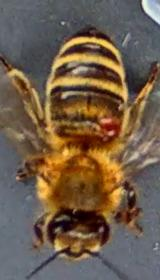varroa_mite: (86, 104, 130, 141)
